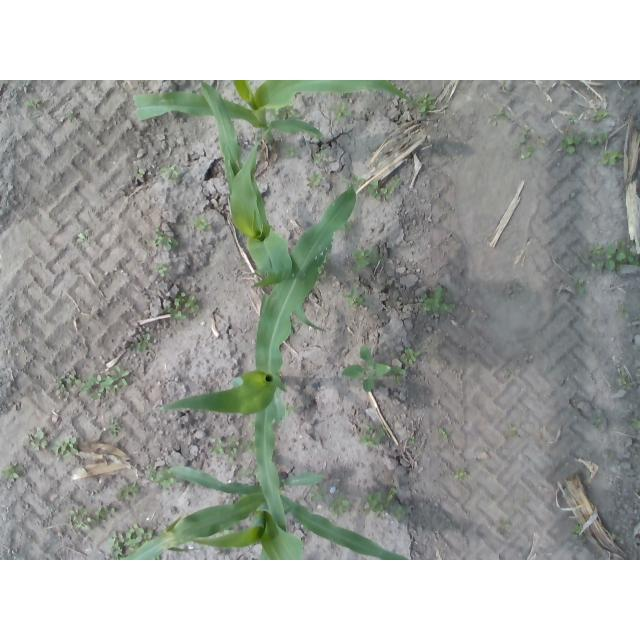Maize: (162, 182, 356, 531), (200, 80, 329, 332), (120, 465, 408, 560), (135, 80, 418, 145)
Weeds: (56, 365, 133, 402), (340, 343, 393, 393), (580, 240, 640, 274), (108, 525, 153, 559), (161, 291, 202, 322), (420, 283, 455, 313), (367, 175, 401, 201), (210, 436, 239, 465), (145, 229, 180, 252), (146, 461, 175, 487), (353, 246, 382, 271), (50, 435, 81, 457), (358, 425, 386, 448), (69, 504, 91, 532), (90, 507, 118, 528), (362, 491, 384, 516), (31, 426, 50, 454), (118, 480, 143, 501), (328, 492, 349, 517), (559, 131, 582, 153), (129, 332, 153, 353), (600, 148, 625, 168), (343, 288, 365, 308), (506, 278, 528, 298), (330, 103, 353, 122), (617, 367, 636, 389), (161, 165, 183, 184), (400, 348, 421, 367), (389, 365, 407, 387), (589, 132, 612, 149), (416, 94, 436, 113), (1, 463, 21, 481), (192, 214, 213, 231), (274, 108, 302, 120), (306, 487, 328, 502), (516, 126, 532, 146), (107, 418, 122, 438), (590, 107, 609, 122), (151, 262, 168, 278), (75, 228, 91, 245), (307, 169, 321, 188), (385, 488, 397, 509), (519, 145, 537, 159), (350, 173, 367, 187), (573, 277, 586, 295), (499, 520, 513, 536), (391, 504, 405, 520), (243, 436, 256, 452), (284, 142, 297, 158), (240, 468, 257, 480), (64, 106, 76, 122), (376, 280, 393, 291), (495, 107, 509, 120), (284, 404, 297, 417), (617, 305, 629, 319), (438, 428, 451, 440), (612, 533, 627, 543), (26, 99, 41, 109), (455, 470, 469, 480), (355, 278, 370, 287), (505, 369, 517, 379), (630, 417, 640, 429), (572, 524, 584, 534), (315, 152, 325, 164), (509, 424, 519, 435), (539, 136, 550, 146), (290, 321, 298, 334), (567, 115, 577, 125), (593, 416, 601, 428), (408, 437, 416, 446), (524, 355, 535, 361), (395, 294, 403, 302), (138, 171, 146, 178)
